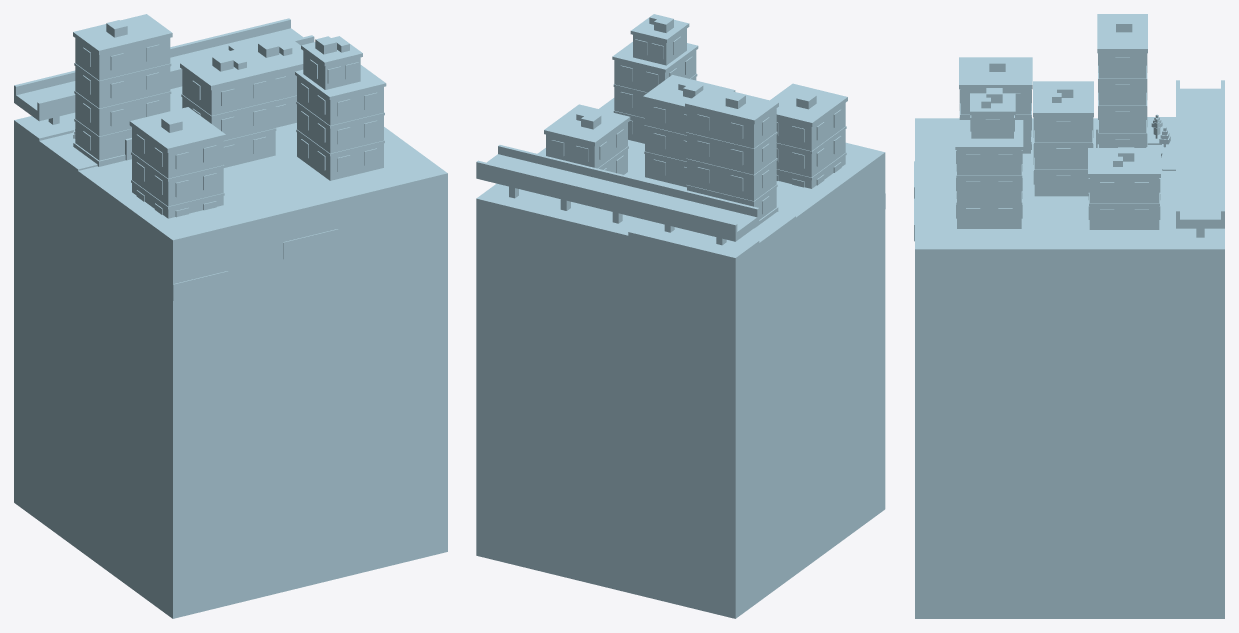
Rendered from block_7_undergroundtanks_100.glb.
3 views of the same model, side by side, from view 1: azimuth 30°, elevation 25°; view 2: azimuth 150°, elevation 25°; view 3: azimuth 270°, elevation 25° (orthographic). The views are drawn at different scales.
Visible parts, largest first — view 1: Patch_UpperLeft_b04_UT, Res_UL_05_UT, Res_UL_09_UT, Res_UL_06_UT, Res_UL_08_UT, Bridge_UpperLeft_b04_UT, Green_UpperLeft_j4_b04_UT, Res_UL_07_UT, Roads_UpperLeft_b04_UT, Paver_UpperLeft_b04_UT; view 2: Patch_UpperLeft_b04_UT, Bridge_UpperLeft_b04_UT, Res_UL_05_UT, Res_UL_06_UT, Res_UL_09_UT, Res_UL_08_UT, Res_UL_07_UT, Paver_UpperLeft_b04_UT, Green_UpperLeft_j4_b04_UT; view 3: Patch_UpperLeft_b04_UT, Res_UL_09_UT, Bridge_UpperLeft_b04_UT, Res_UL_05_UT, Res_UL_08_UT, Res_UL_07_UT, Res_UL_06_UT, Green_UpperLeft_j4_b04_UT, Roads_UpperLeft_b04_UT.
Part boxes in pixels (x1,y1,x2,y2): Patch_UpperLeft_b04_UT: (14,86,447,618); Res_UL_05_UT: (73,14,172,166); Res_UL_09_UT: (295,36,386,180); Res_UL_06_UT: (129,107,225,218); Res_UL_08_UT: (180,47,277,167); Bridge_UpperLeft_b04_UT: (14,18,314,124); Green_UpperLeft_j4_b04_UT: (14,123,447,301); Res_UL_07_UT: (228,32,303,127); Roads_UpperLeft_b04_UT: (157,199,447,283); Paver_UpperLeft_b04_UT: (14,112,75,141); Patch_UpperLeft_b04_UT: (476,98,885,618); Bridge_UpperLeft_b04_UT: (476,145,759,245); Res_UL_05_UT: (685,85,778,228); Res_UL_06_UT: (770,83,847,188); Res_UL_09_UT: (612,14,698,143); Res_UL_08_UT: (643,75,735,186); Res_UL_07_UT: (544,104,630,174); Paver_UpperLeft_b04_UT: (476,220,759,267); Green_UpperLeft_j4_b04_UT: (476,193,885,268); Patch_UpperLeft_b04_UT: (915,118,1224,618); Res_UL_09_UT: (955,88,1023,228); Bridge_UpperLeft_b04_UT: (1176,80,1224,237); Res_UL_05_UT: (1096,14,1147,147); Res_UL_08_UT: (1033,81,1093,196); Res_UL_07_UT: (1088,147,1160,229); Res_UL_06_UT: (959,57,1032,153); Green_UpperLeft_j4_b04_UT: (914,117,1224,308); Roads_UpperLeft_b04_UT: (915,275,1223,308).
Size of the model in its own units: 9.5 by 16.62 by 9.53.
